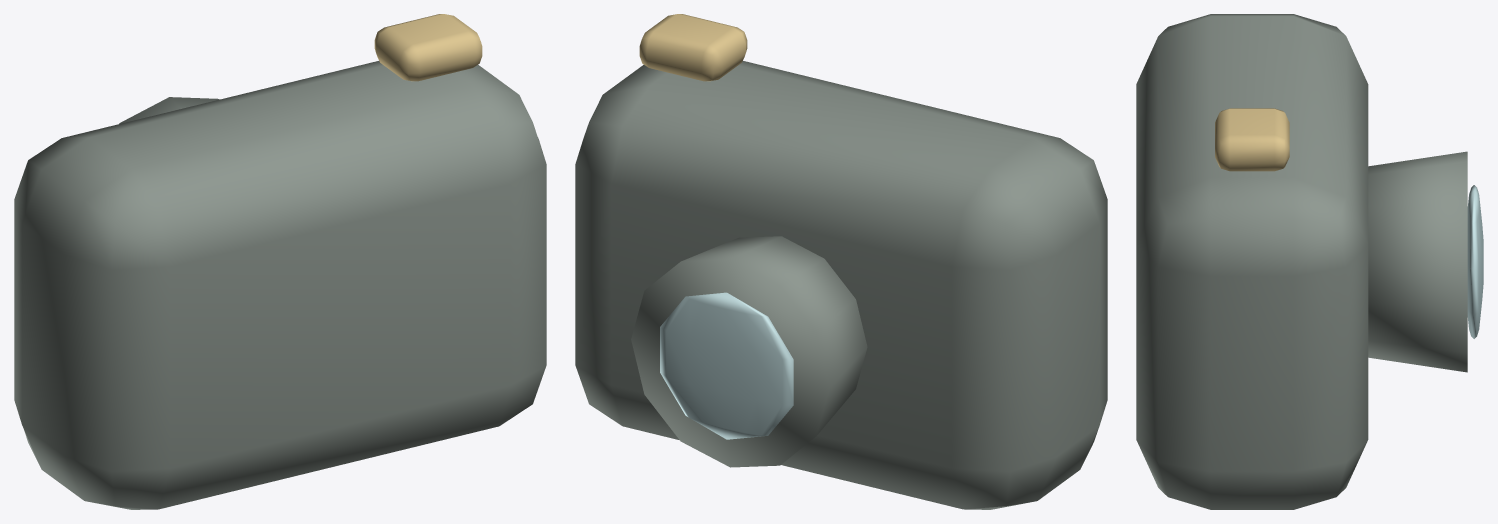
The model's file is camera.glb.
3 views of the same model, side by side, from view 1: azimuth 30°, elevation 25°; view 2: azimuth 150°, elevation 25°; view 3: azimuth 270°, elevation 25° (orthographic). The views are drawn at different scales.
Size of the model in its own units: 0.32 by 0.25 by 0.2097.
